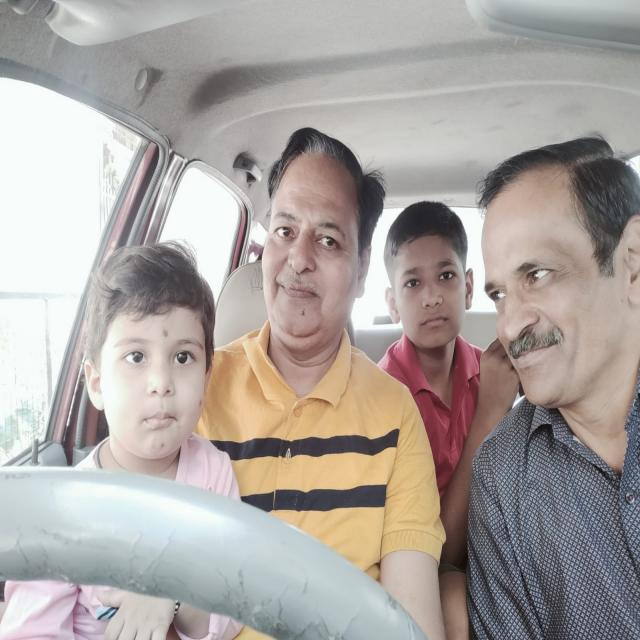child: (81, 240, 219, 462)
person: (480, 134, 640, 412), (261, 121, 383, 364), (386, 188, 478, 364)
